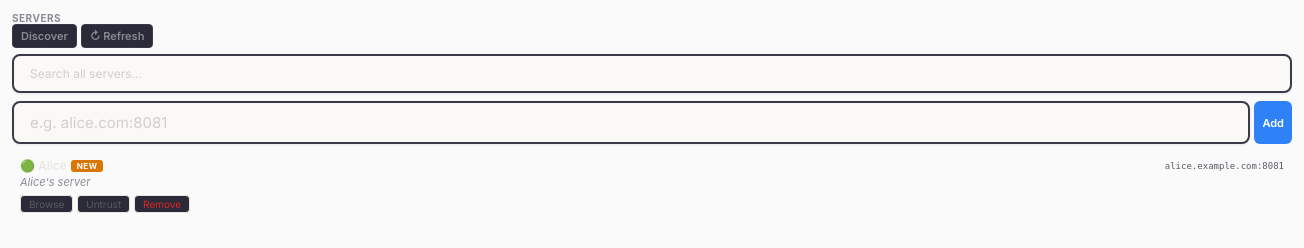
ServerDirectoryPanel › shows error when remove fails
Click the button "Remove" at (162, 204), box [134,195,190,213]
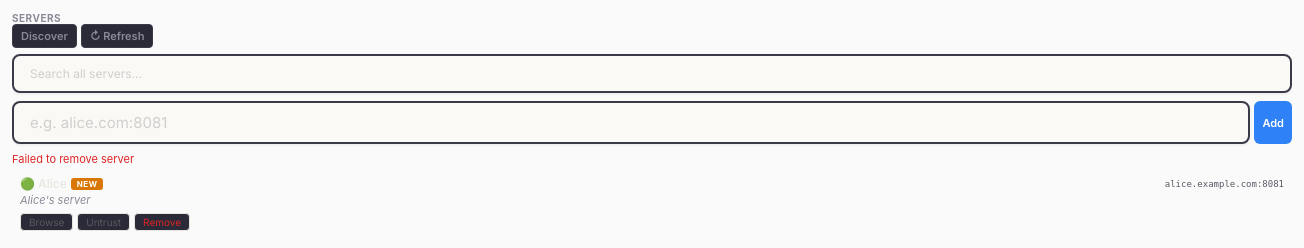
Now the text "Failed to remove server" is shown, box [12,152,134,166]
